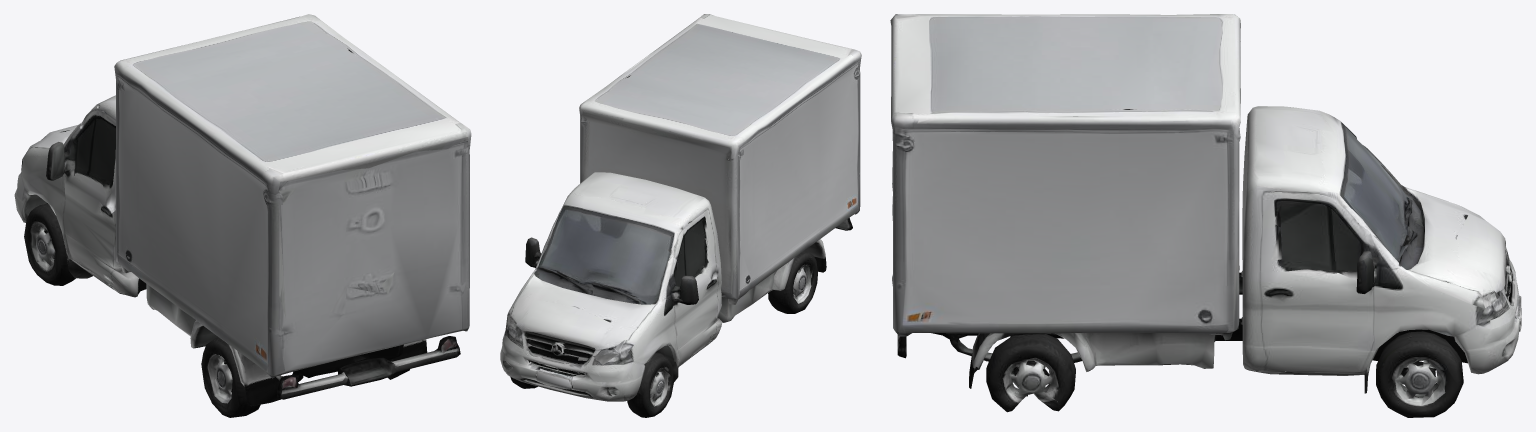
File: truck.glb
3 renders of one model, left to right at view 1: azimuth 30°, elevation 25°; view 2: azimuth 150°, elevation 25°; view 3: azimuth 270°, elevation 25°, orthographic. The views are drawn at different scales.
Parts seen in each view (by area): view 1: tripo_node_ae16fd82; view 2: tripo_node_ae16fd82; view 3: tripo_node_ae16fd82.
Boxes of the visible parts, box(x1,y1,x2,y2) form: tripo_node_ae16fd82: box(14, 14, 471, 417); tripo_node_ae16fd82: box(500, 14, 861, 417); tripo_node_ae16fd82: box(890, 14, 1521, 417).
Bounding box in the file's own units: 2.66 × 3.4 × 6.2.
Materials: 1 (1 with a texture image).
